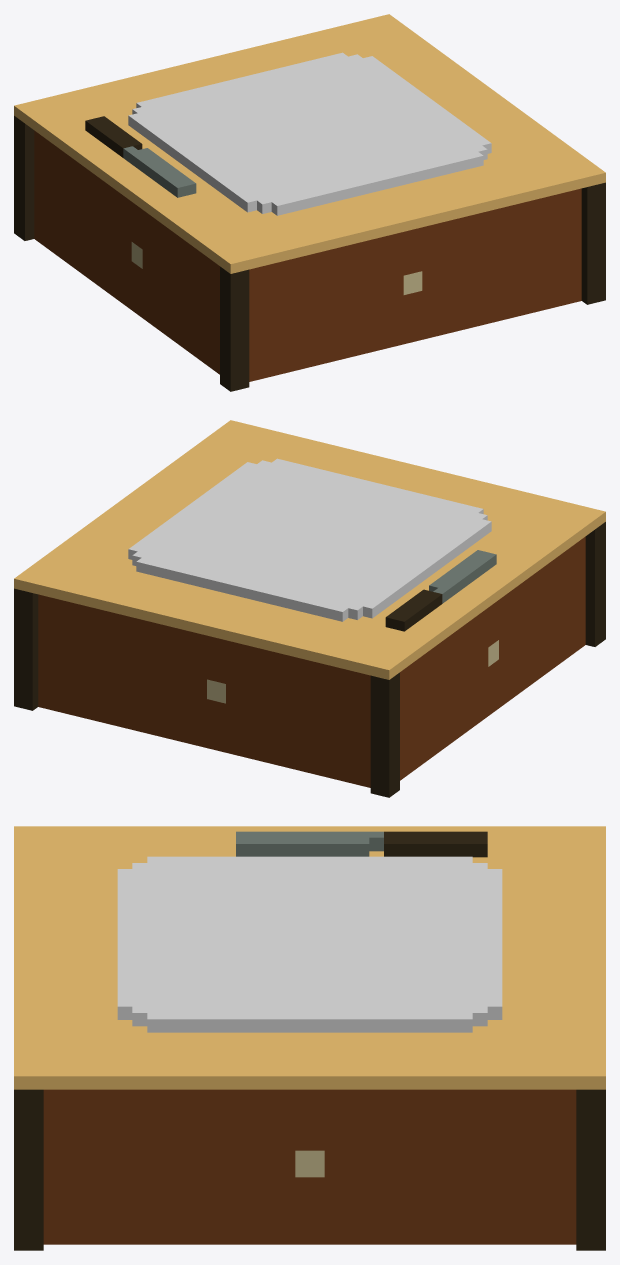
The model's file is CuttingTable.obj.
3 views of the same model, one above another, from view 1: azimuth 30°, elevation 25°; view 2: azimuth 150°, elevation 25°; view 3: azimuth 270°, elevation 25° (orthographic). The views are drawn at different scales.
Size of the model in its own units: 4 by 1.4 by 4.
1 material, 1 textured.
